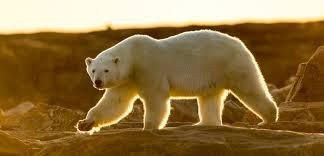bear: (76, 29, 279, 132)
